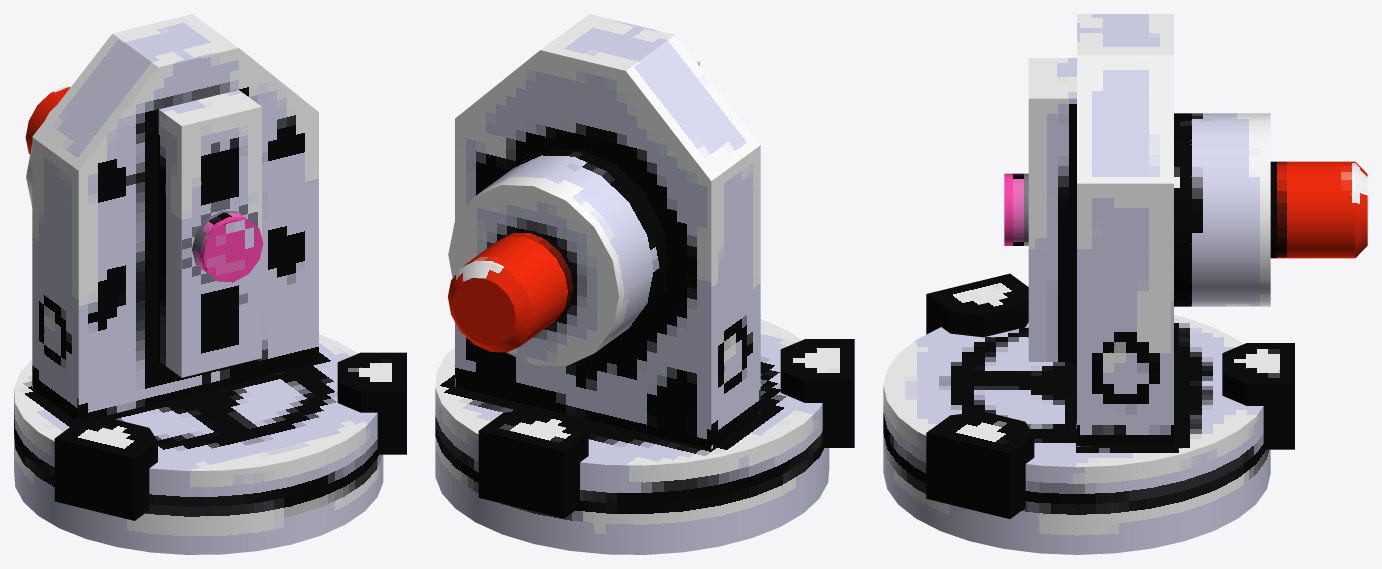
The model's file is LaserTurret.glb.
The picture shows the model from 3 angles, left to right: view 1: azimuth 30°, elevation 25°; view 2: azimuth 150°, elevation 25°; view 3: azimuth 270°, elevation 25°; orthographic projection. The views are drawn at different scales.
Parts seen in each view (by area): view 1: Laser; view 2: Laser; view 3: Laser.
Part boxes in pixels (<box>): Laser: <box>14,14,406,554</box>; Laser: <box>435,14,854,554</box>; Laser: <box>883,14,1367,554</box>.
Size of the model in its own units: 0.8794 by 1 by 1.
1 material, 1 textured.
